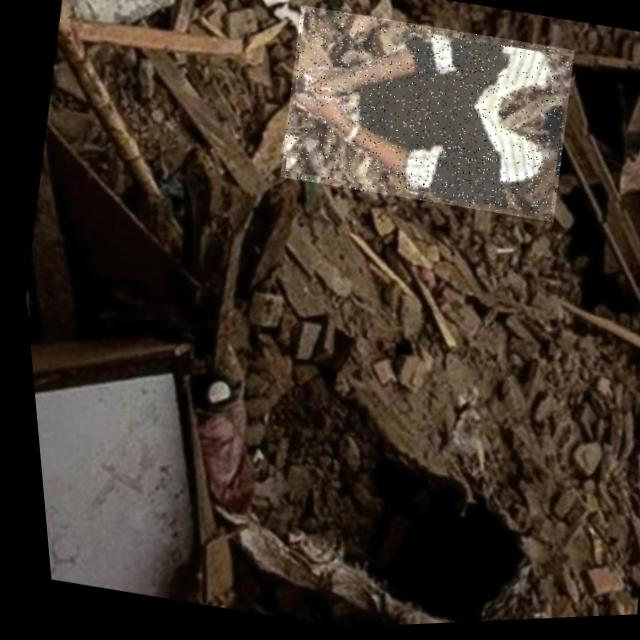Person in Rubble: (264, 0, 584, 236)
